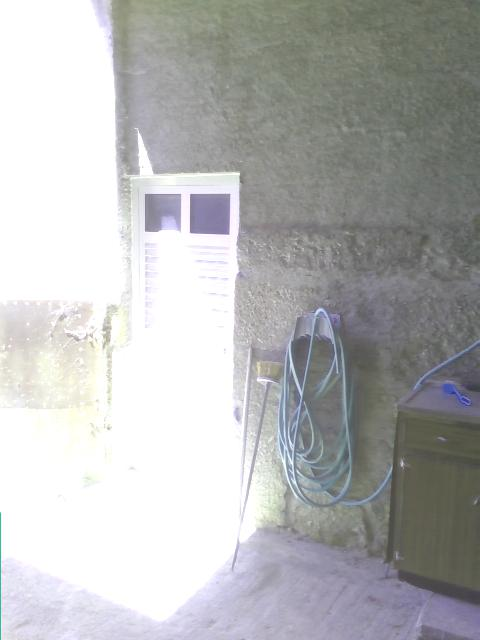closed_door: (126, 170, 236, 450)
